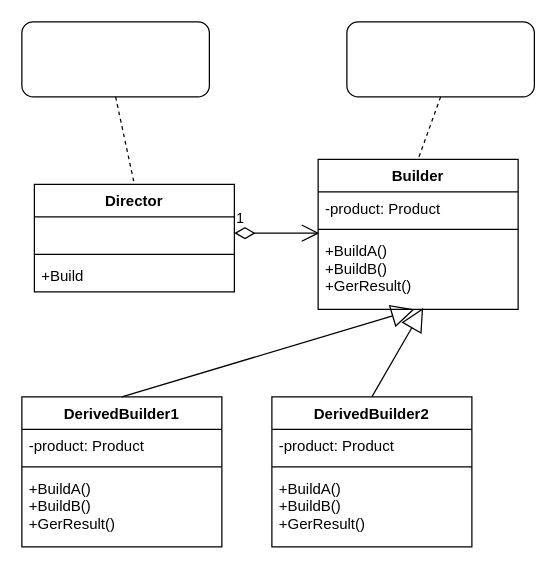
Some shapes in this 556 by 573 pixel diagram are drawn without their labels. Each missing label, with the centre of its shape:
"抽象类: 声明好要执行的函数" goes at (440,59).
"指挥者: 指挥建造者做事，调用建造者的方法" goes at (115,59).
